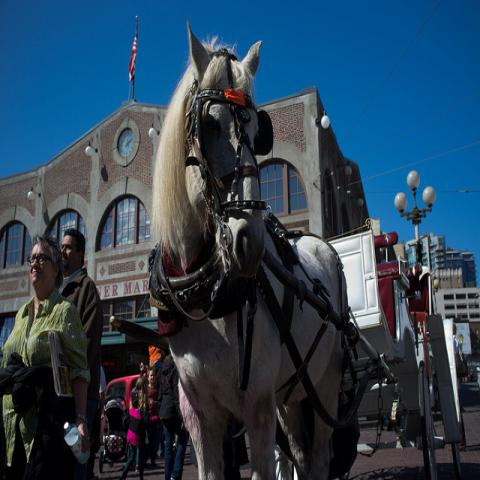car: (100, 375, 140, 443)
